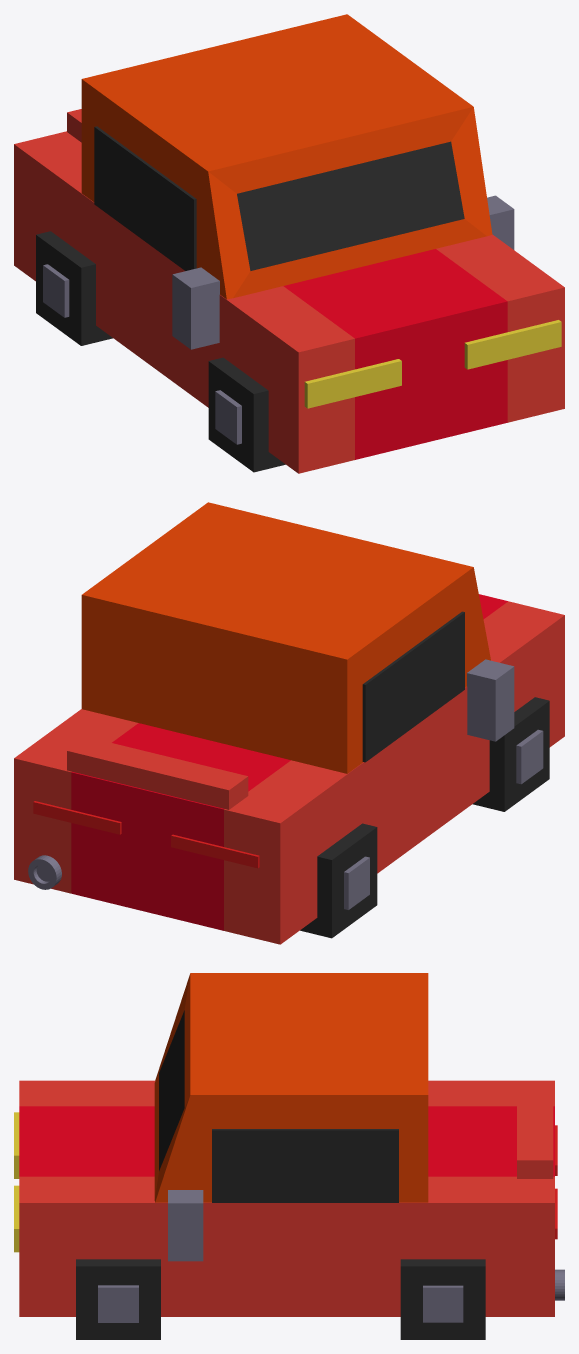
Rendered from car4.fbx.
The picture shows the model from 3 angles, top to bottom: view 1: azimuth 30°, elevation 25°; view 2: azimuth 150°, elevation 25°; view 3: azimuth 270°, elevation 25°; orthographic projection. The views are drawn at different scales.
Parts seen in each view (by area): view 1: Cube.001, Cube, Cube.006, Cube.007, Cube.004, Cube.003, Cube.005, Cube.008, Cube.009; view 2: Cube.001, Cube, Cube.006, Cube.002, Cube.005, Cube.003, Cube.004, Cube.010, Cube.008, Cube.009, Cylinder; view 3: Cube, Cube.001, Cube.006, Cube.005, Cube.003, Cube.002, Cube.004, Cube.008, Cube.009, Cube.007.
Boxes of the visible parts, x1,y1,x2,y2 form: Cube.001: [81, 14, 492, 299]; Cube: [14, 131, 564, 473]; Cube.006: [94, 126, 196, 270]; Cube.007: [304, 320, 561, 408]; Cube.004: [172, 195, 514, 349]; Cube.003: [208, 357, 285, 472]; Cube.005: [36, 231, 112, 345]; Cube.008: [215, 390, 241, 444]; Cube.009: [43, 264, 69, 317]; Cube.001: [81, 502, 490, 773]; Cube: [14, 594, 564, 944]; Cube.006: [362, 611, 464, 762]; Cube.002: [67, 736, 248, 809]; Cube.005: [300, 823, 377, 938]; Cube.003: [472, 697, 549, 811]; Cube.004: [467, 659, 514, 741]; Cube.010: [33, 801, 259, 868]; Cube.008: [516, 729, 543, 784]; Cube.009: [344, 856, 369, 909]; Cylinder: [28, 855, 61, 889]; Cube: [19, 1080, 554, 1316]; Cube.001: [154, 973, 428, 1202]; Cube.006: [212, 1129, 398, 1202]; Cube.005: [400, 1259, 485, 1339]; Cube.003: [76, 1259, 160, 1339]; Cube.002: [517, 1086, 553, 1178]; Cube.004: [168, 1190, 203, 1261]; Cube.008: [98, 1285, 138, 1322]; Cube.009: [423, 1285, 463, 1322]; Cube.007: [14, 1112, 19, 1252].
Bounding box in the file's own units: 48.71 × 36.38 × 76.41.
